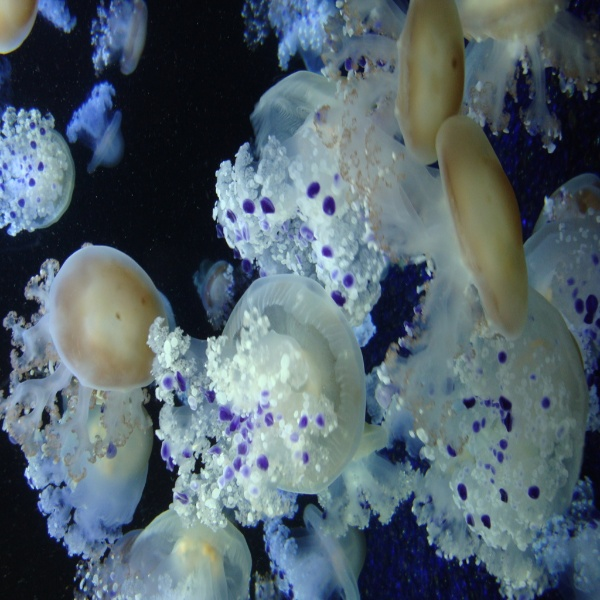Jellyfish: (0, 0, 599, 599), (39, 248, 177, 420)
